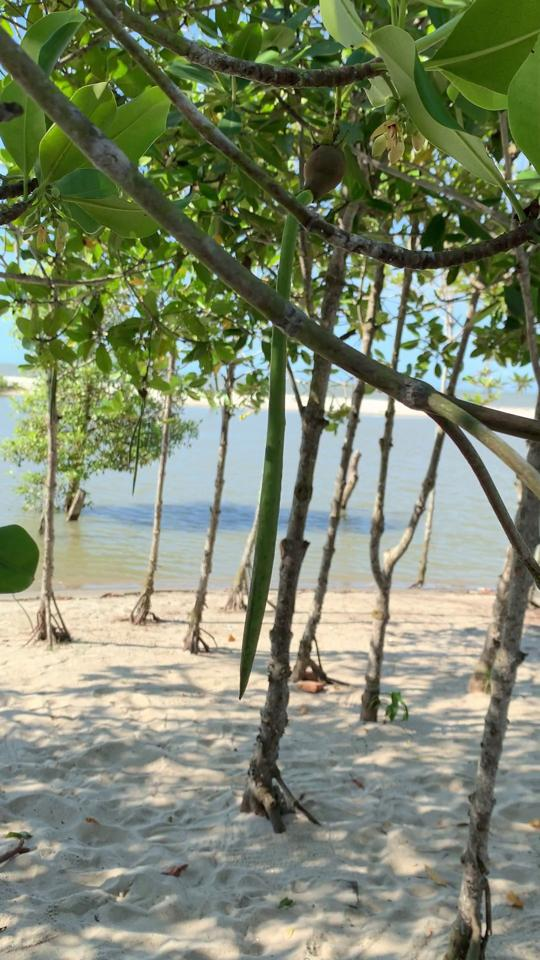setengah matang: (235, 129, 354, 706)
